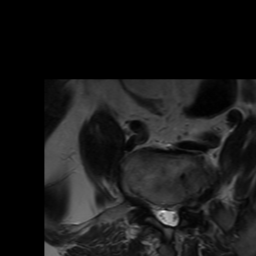CCS_normal: (162, 198, 171, 231)
LFS_severe_stenosis: (180, 193, 189, 218)
LLS_normal: (171, 197, 180, 230)
RFS_severe_stenosis: (146, 193, 154, 216)
RLS_normal: (154, 197, 162, 227)
